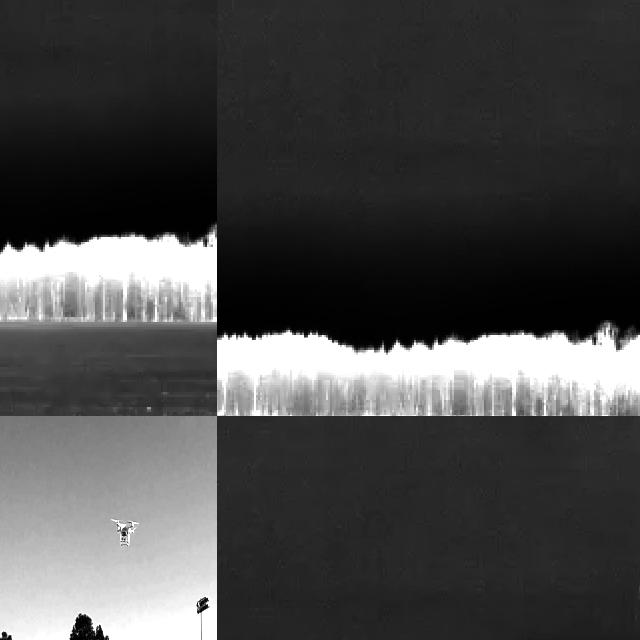drone: (113, 514, 140, 544)
